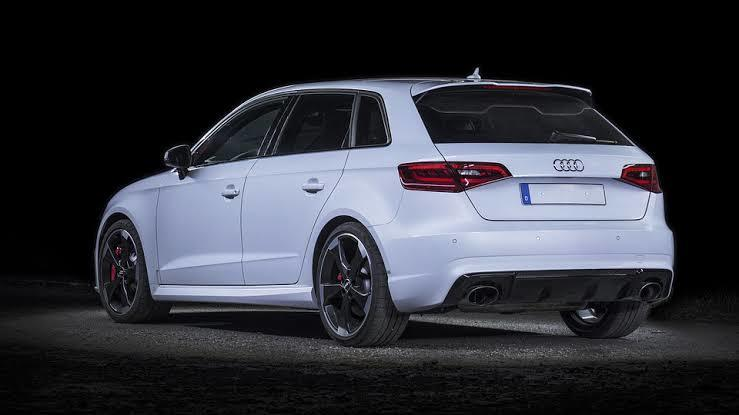audi: (82, 73, 679, 355)
